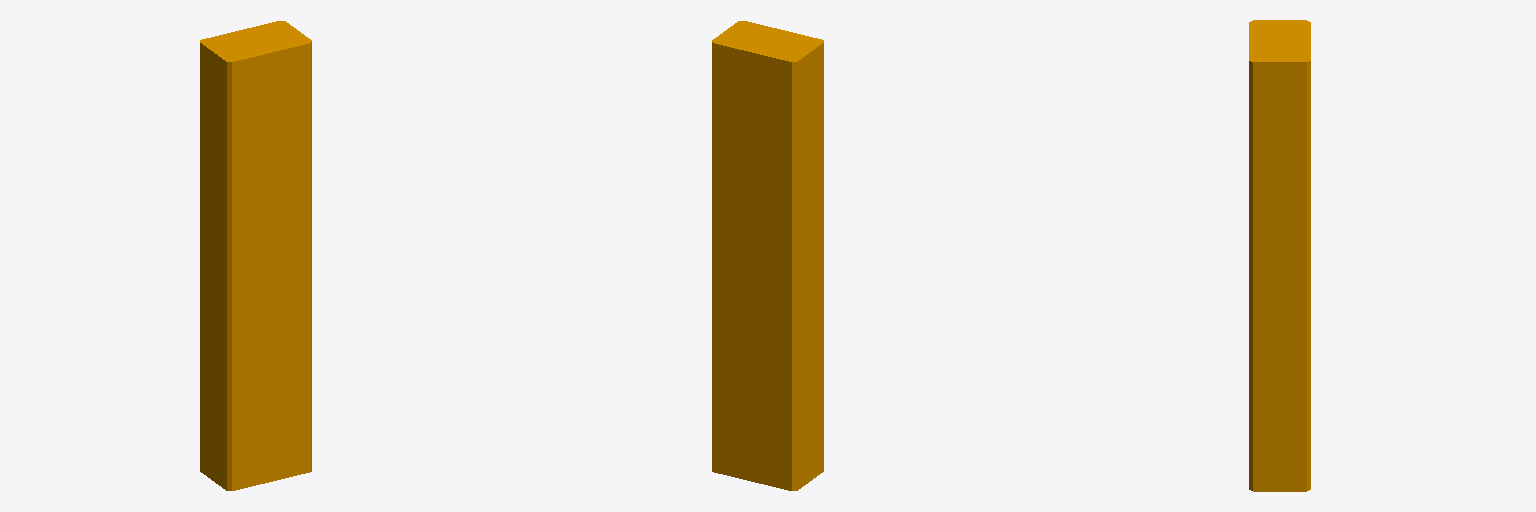
robot.urdf — factory_rectangular_peg_16mm_loose:
<?xml version="1.0"?>
<robot name="factory_rectangular_peg_16mm_loose">
    <link name="factory_rectangular_peg_16mm_loose">
        <visual>
            <geometry>
                <mesh filename="../mesh/factory_insertion/factory_rectangular_peg_16mm_loose_subdiv_3x.obj"/>
            </geometry>
        </visual>
        <collision>
            <geometry>
                <mesh filename="../mesh/factory_insertion/factory_rectangular_peg_16mm_loose_subdiv_3x.obj"/>
            </geometry>
            <!-- sdf resolution="256"-->
        </collision>
    </link>
</robot>

--- What the picture shows (computed from the rendered views, not written in the file) ---
Views: 3 orthographic renders of the robot side by side, from view 1: azimuth 30°, elevation 25°; view 2: azimuth 150°, elevation 25°; view 3: azimuth 270°, elevation 25°.
Robot: factory_rectangular_peg_16mm_loose — 1 links, 0 joints (none); root link factory_rectangular_peg_16mm_loose; default pose: every joint at zero.
Links seen in each view (by area): view 1: factory_rectangular_peg_16mm_loose; view 2: factory_rectangular_peg_16mm_loose; view 3: factory_rectangular_peg_16mm_loose.
Boxes of the visible links, box(x1,y1,x2,y2) form: factory_rectangular_peg_16mm_loose: box(200, 21, 311, 490); factory_rectangular_peg_16mm_loose: box(712, 21, 823, 490); factory_rectangular_peg_16mm_loose: box(1249, 20, 1310, 491).
Bounding box of the posed robot: 0.016 × 0.0099 × 0.0762 m (x, y, z).
Meshes: 1 distinct files referenced, 1 mesh visuals loaded (1 OBJ).
